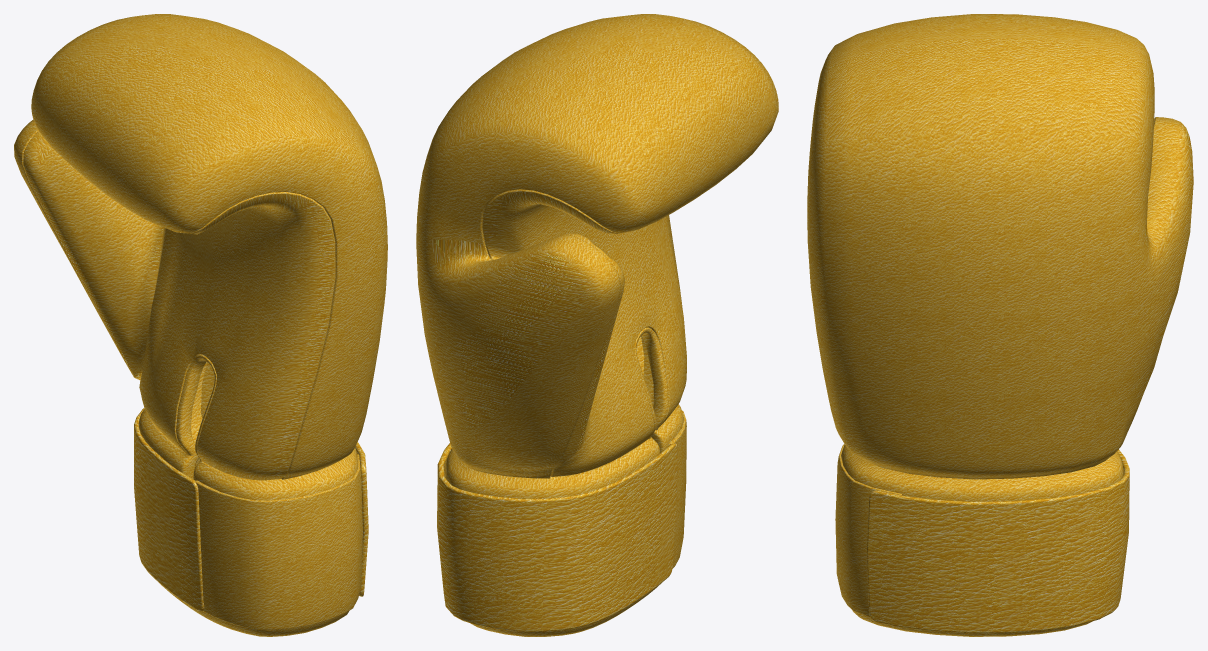
File: rękawice bokserskie064.fbx
The picture shows the model from 3 angles, left to right: view 1: azimuth 30°, elevation 25°; view 2: azimuth 150°, elevation 25°; view 3: azimuth 270°, elevation 25°; orthographic projection. The views are drawn at different scales.
Visible parts, largest first — view 1: rękawice bokserskie064; view 2: rękawice bokserskie064; view 3: rękawice bokserskie064.
Part boxes in pixels (x1,y1,x2,y2): rękawice bokserskie064: [14, 14, 387, 636]; rękawice bokserskie064: [416, 14, 778, 636]; rękawice bokserskie064: [807, 14, 1193, 636].
Bounding box in the file's own units: 5.3 × 10.6 × 6.77.
